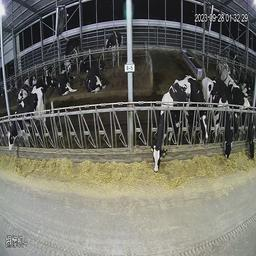cow: (149, 79, 187, 176), (200, 74, 231, 162), (9, 86, 48, 153), (224, 78, 255, 161), (183, 73, 209, 157), (217, 78, 237, 160), (85, 59, 107, 94), (16, 76, 36, 111), (105, 31, 124, 62), (57, 68, 77, 97), (36, 73, 55, 98), (63, 39, 79, 65)
